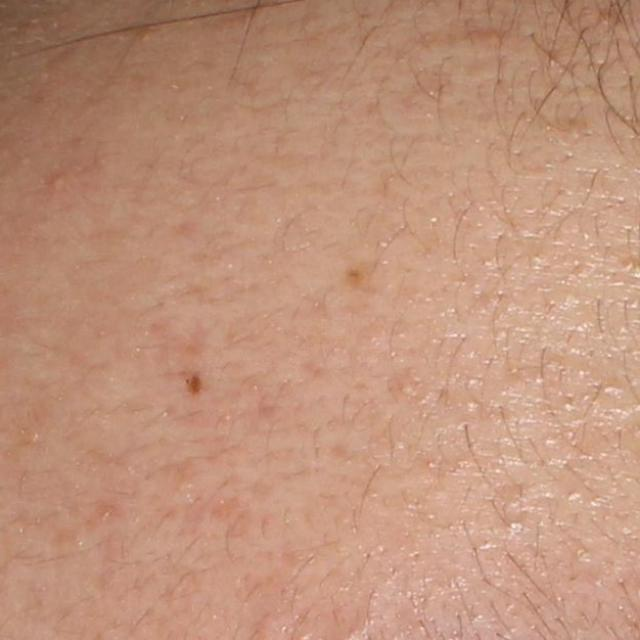blackhead: (180, 360, 210, 407)
